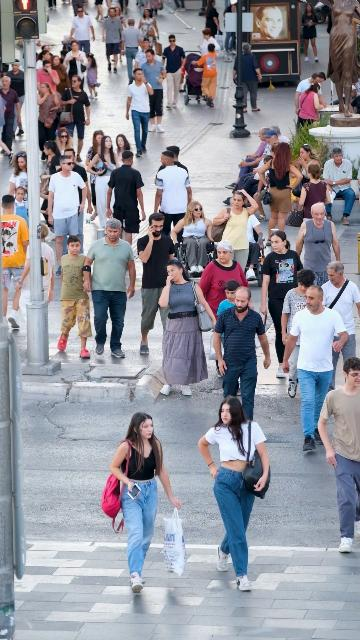person: (197, 396, 271, 593), (109, 412, 182, 593), (281, 285, 349, 454), (317, 357, 360, 553), (158, 258, 217, 397), (213, 286, 271, 422), (82, 218, 136, 359), (259, 229, 306, 379), (137, 212, 177, 356), (281, 268, 321, 400), (320, 261, 360, 393), (46, 155, 88, 277), (58, 235, 95, 360), (200, 241, 251, 322), (0, 194, 30, 330), (259, 142, 303, 234), (295, 202, 341, 288), (105, 150, 147, 244), (212, 189, 259, 271), (154, 150, 194, 246), (85, 136, 121, 230), (170, 201, 215, 275), (224, 155, 273, 220), (59, 148, 99, 222), (231, 129, 280, 189), (225, 127, 271, 190), (61, 74, 91, 164), (135, 49, 167, 133), (125, 68, 154, 157), (323, 148, 356, 226), (297, 164, 333, 224), (37, 82, 63, 162), (233, 42, 262, 113), (162, 34, 187, 110), (0, 76, 22, 156), (295, 72, 326, 128), (191, 43, 218, 107), (5, 58, 25, 136), (298, 83, 327, 133), (121, 17, 142, 85), (102, 8, 123, 73), (64, 40, 89, 93), (40, 140, 63, 196), (69, 6, 95, 53), (293, 144, 321, 185), (301, 4, 319, 63), (216, 279, 241, 321), (8, 151, 29, 200), (138, 8, 160, 53), (161, 145, 188, 177), (9, 186, 30, 227), (133, 38, 152, 82), (36, 60, 60, 94), (84, 53, 101, 101), (198, 28, 221, 62), (84, 130, 104, 166), (51, 55, 69, 94), (113, 133, 133, 168), (53, 129, 73, 161), (205, 0, 220, 40), (271, 125, 289, 143)
